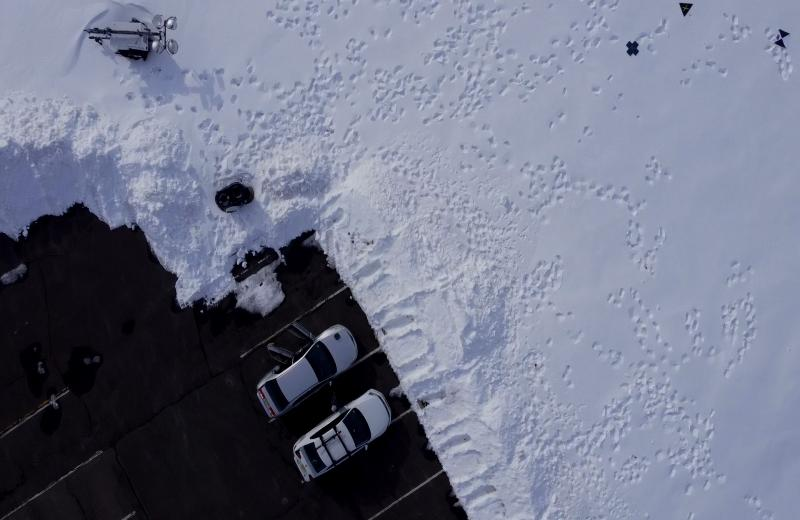Cross: (624, 38, 642, 58)
Triangle: (678, 0, 692, 17)
